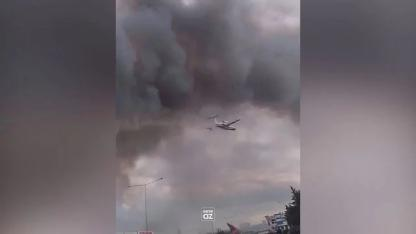B52: (206, 114, 240, 130)
